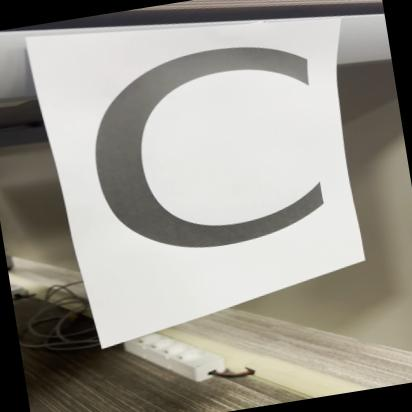seat: (42, 5, 360, 299)
